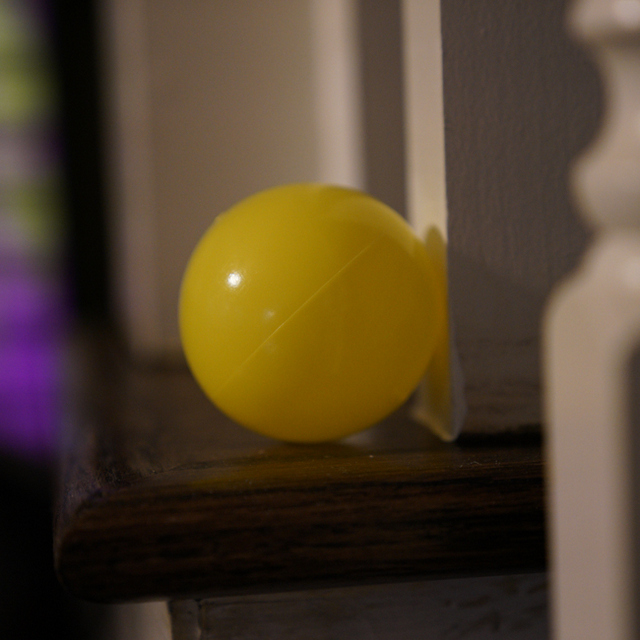Ball: (187, 186, 440, 444)
